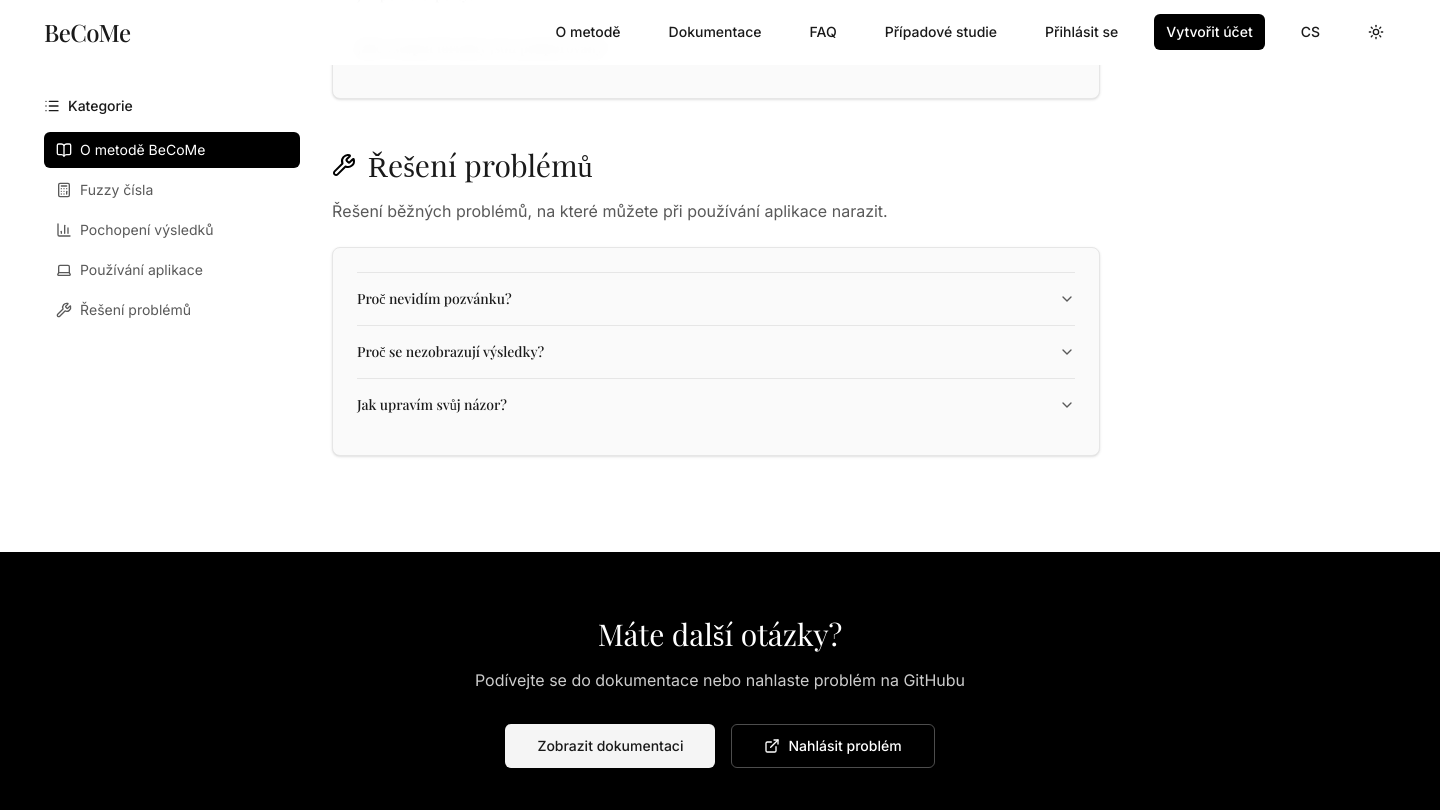
Scenario: FAQ › answer matches what the application does (cs: Jak upravím svůj názor?)
(page scrolled)
Step 1. Click the button "Jak upravím svůj názor?" → coordinates (432, 404), box [357,379,1075,431]
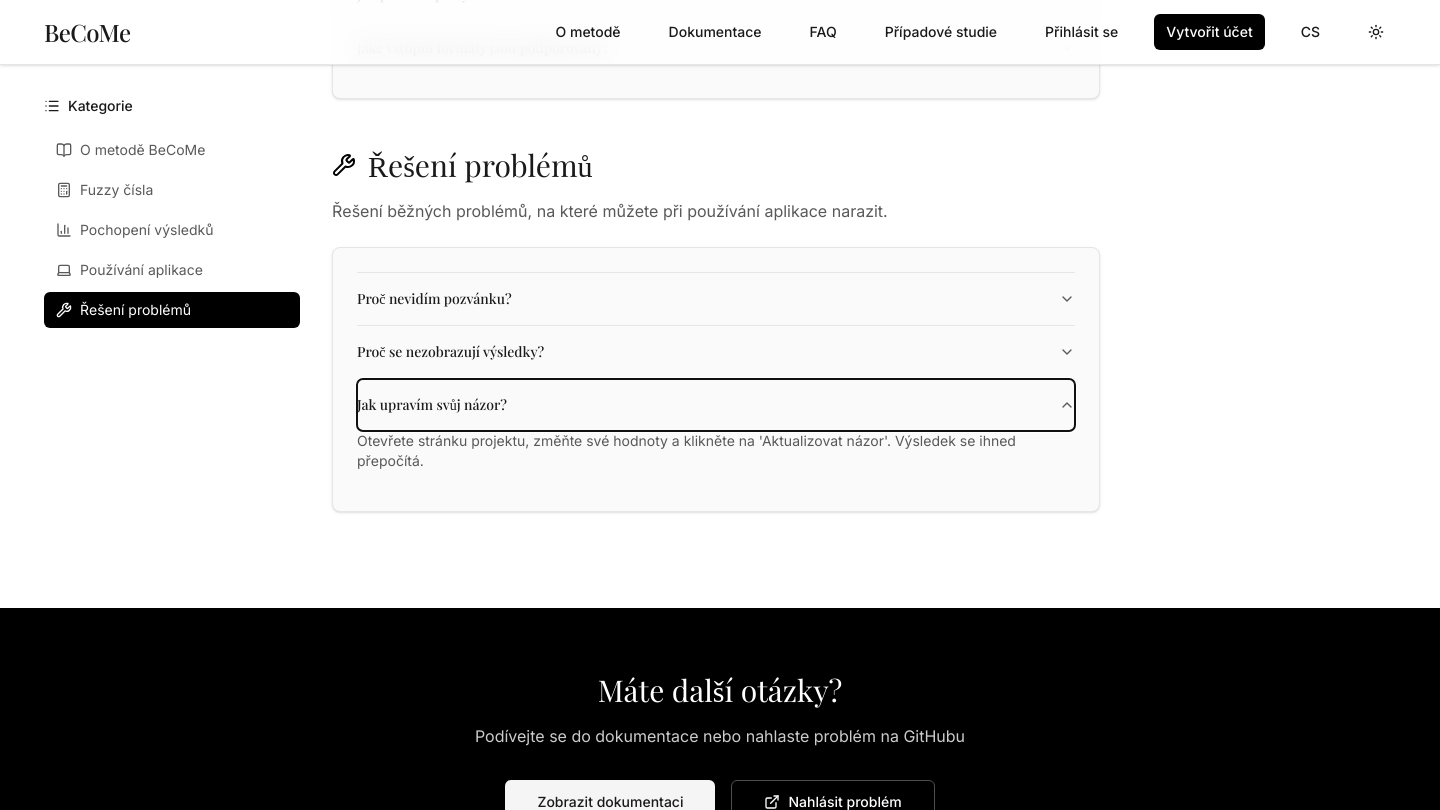
Expected: the text "Otevřete stránku projektu, změňte své hodnoty a klikněte na 'Aktualizovat názor'. Výsledek se ihned přepočítá." is shown, [357,432,1016,469]
